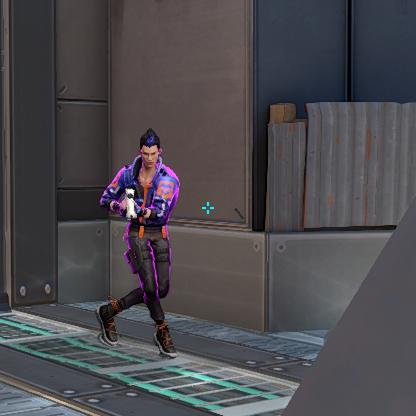enemyBody: (133, 170, 162, 223)
enemyHead: (142, 144, 157, 163)
